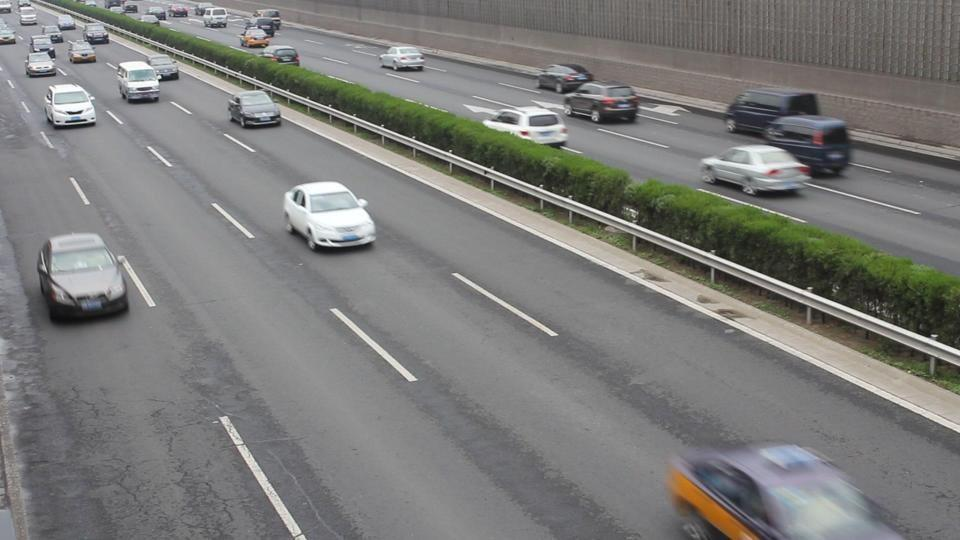car: (662, 441, 904, 538), (35, 232, 129, 322), (282, 181, 379, 251), (698, 144, 811, 197), (764, 113, 851, 177), (724, 85, 821, 139), (483, 107, 569, 148), (564, 80, 640, 124), (42, 82, 97, 127), (227, 91, 282, 128), (116, 61, 160, 104), (536, 63, 595, 94), (379, 45, 426, 71)
